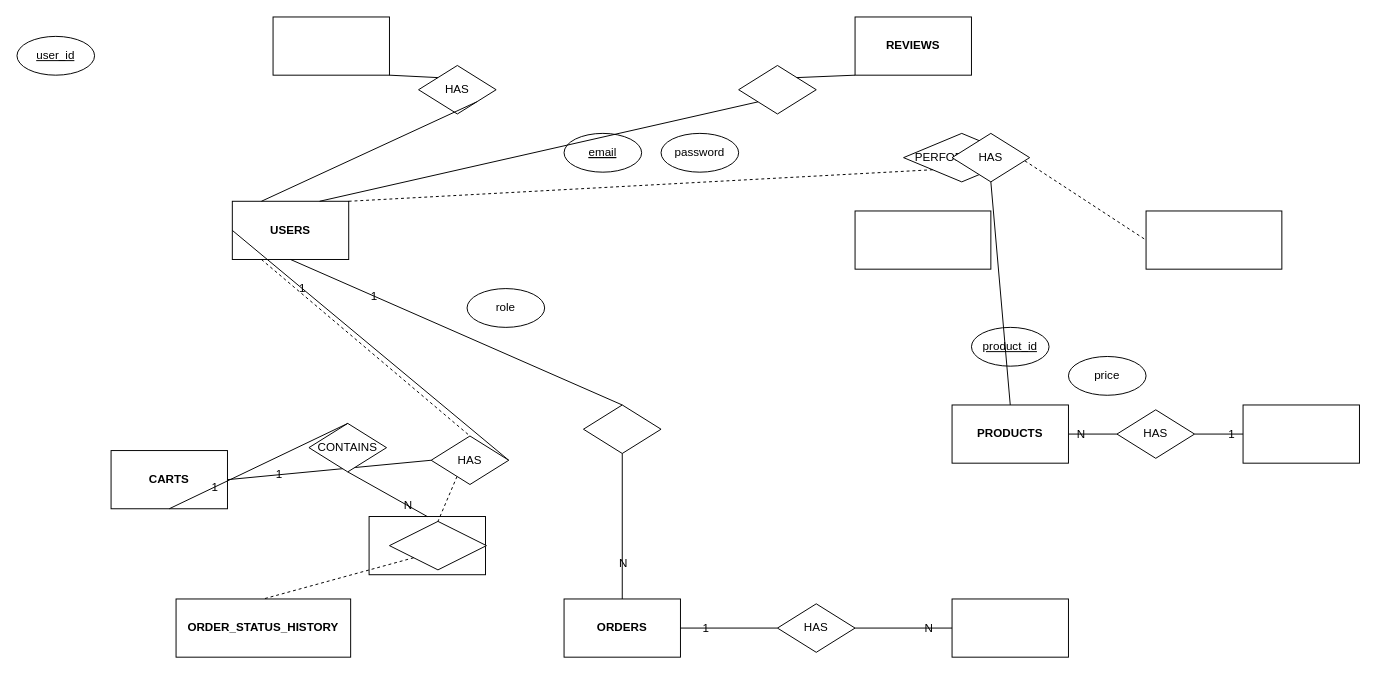
The diagram is 1376 pixels wide and 674 high, and some of its shapes have lost their labels. Each missing label, with the box of its shape:
ADDRESSES: (272, 16, 389, 75)
CART_ITEMS: (368, 516, 485, 575)
CATEGORIES: (1242, 404, 1359, 463)
CHANGED BY: (388, 520, 486, 570)
CHAT_MESSAGES: (854, 210, 991, 269)
INVENTORY_LOG: (1145, 210, 1282, 269)
ORDER_ITEMS: (951, 598, 1068, 657)
PLACES: (582, 404, 661, 453)
WRITES: (738, 65, 816, 114)
